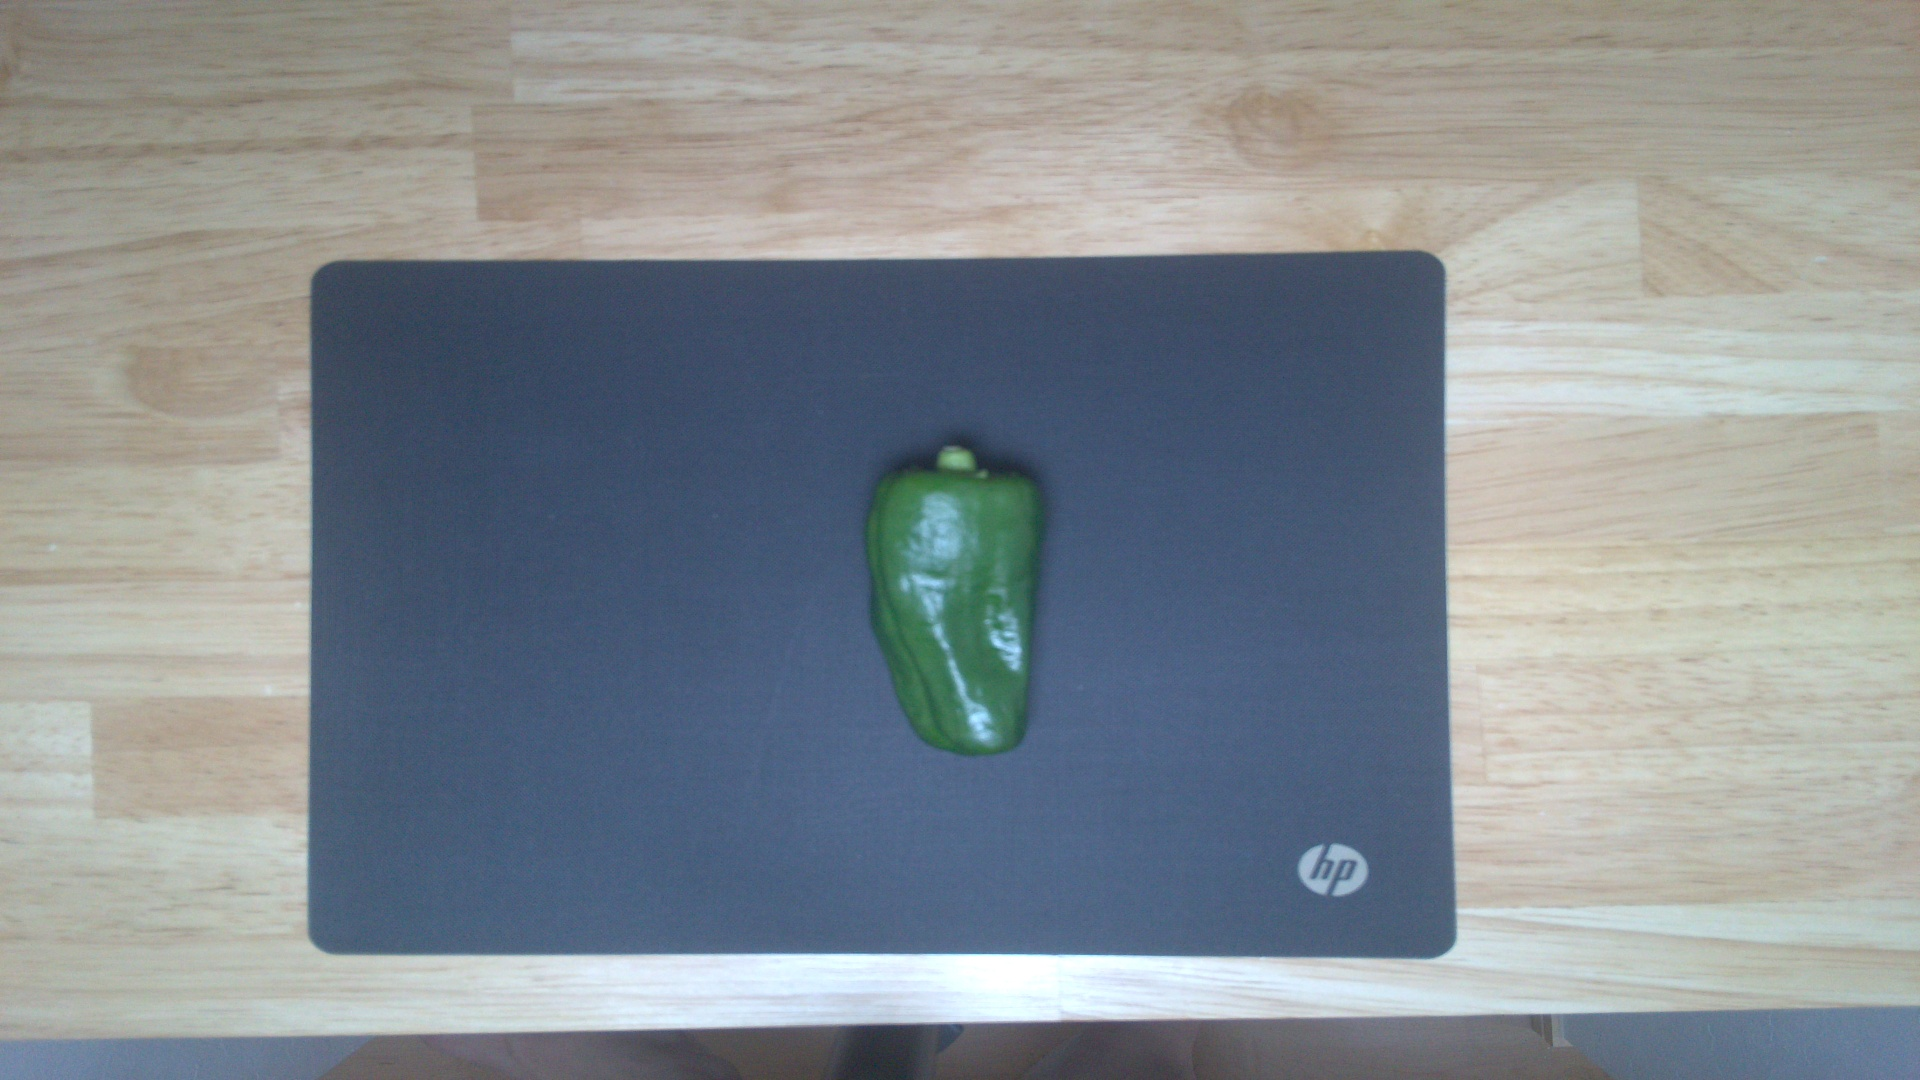Piman: (865, 440, 1044, 757)
